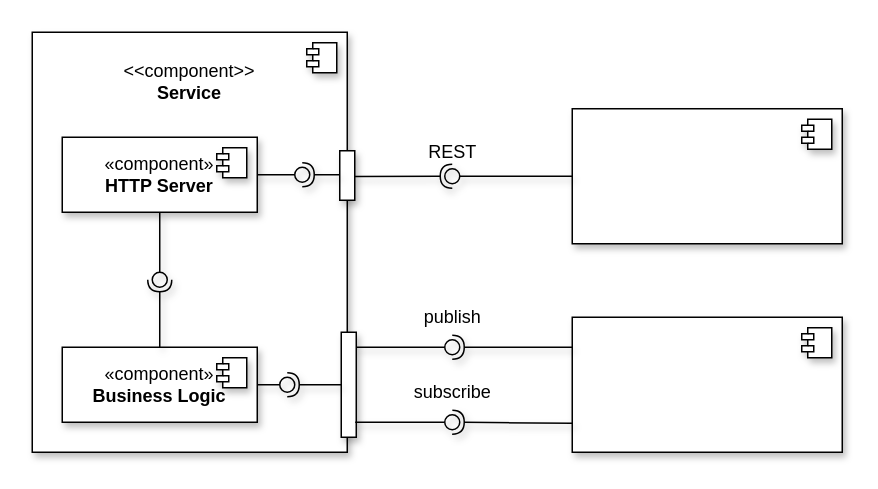
This 878x489 diagram has some shape labels left out. Each missing label, with the centre of its shape:
«component» API Gateway: point 708,177
«component» Event broker: point 708,386
